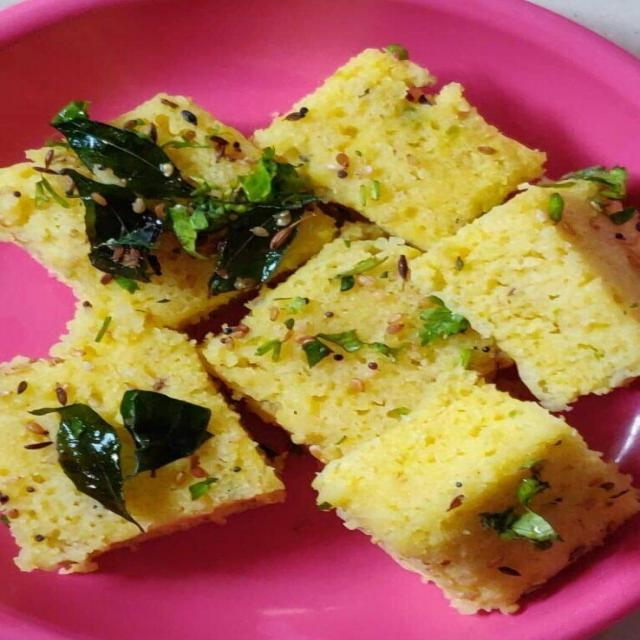dhokla: (6, 38, 640, 610)
